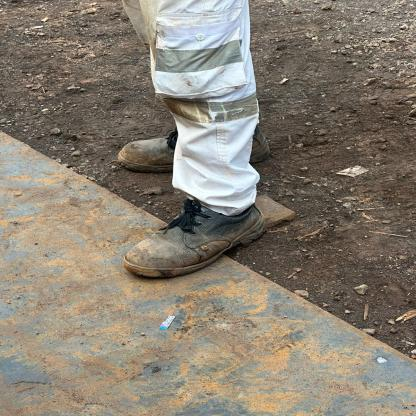bota: (116, 202, 268, 277), (116, 132, 191, 170)
